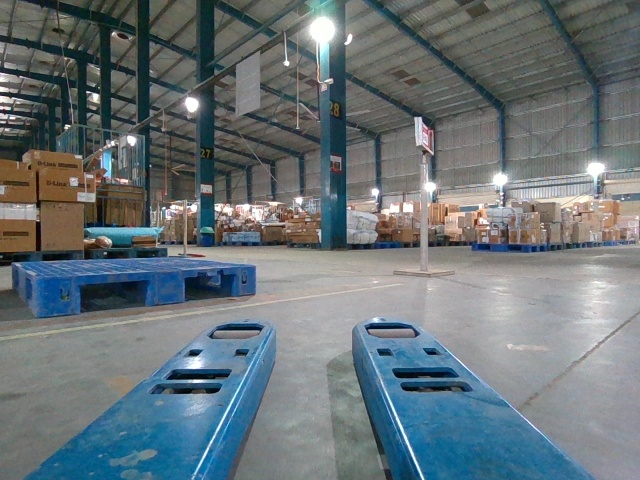block: (33, 276, 81, 315), (145, 271, 186, 306), (231, 265, 257, 299)
front: (38, 265, 256, 316)
hole pallet: (78, 281, 148, 312), (182, 275, 236, 299)
